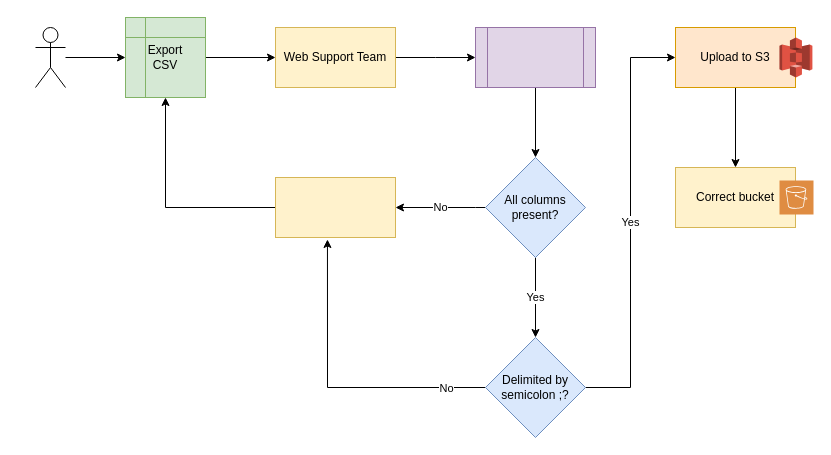
This 831x455 diagram has some shape labels left out. Here are the shapes that lost their labels. From the top down, the box of each, then its label:
(34, 26, 66, 88): Josh Barnes Team
(474, 26, 596, 88): Review for Accuracy
(274, 176, 396, 238): Return for Edits
